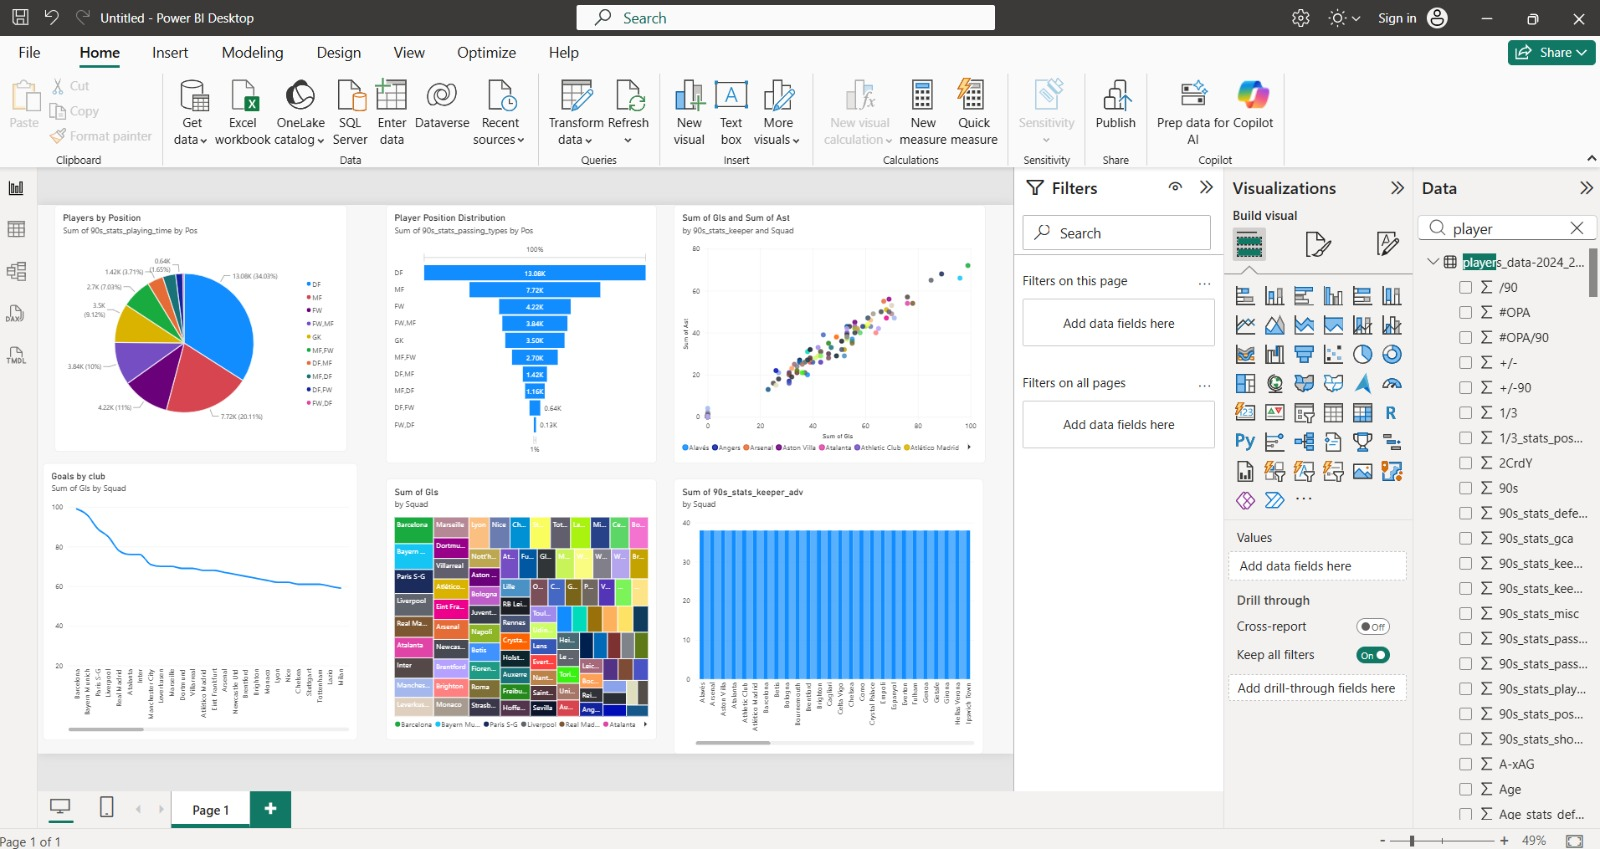

What the dashboard file says about the page in this screenshot:
{"tool":"powerbi","page":{"name":"Page 1","canvas":[1920,1080],"ordinal":0},"visuals":[{"type":"pieChart","title":"Players by Position","fields":{"Category":["players_data-2024_2025.Pos"],"Y":["Sum(players_data-2024_2025.90s_stats_playing_time)"]},"box":[32.9,0,576.3,485.8],"z":0},{"type":"lineChart","title":"Goals by club","fields":{"Category":["players_data-2024_2025.Squad"],"Y":["Sum(players_data-2024_2025.Gls)"]},"box":[10.3,508.4,619.6,545.5],"z":1},{"type":"funnel","title":"Player Position Distribution","fields":{"Category":["players_data-2024_2025.Pos"],"Y":["Sum(players_data-2024_2025.90s_stats_passing_types)"]},"box":[685.4,0,533.1,508.4],"z":2},{"type":"treemap","fields":{"Group":["players_data-2024_2025.Squad"],"Values":["Sum(players_data-2024_2025.Gls)"]},"box":[685.4,539.3,533.1,514.6],"z":3},{"type":"scatterChart","fields":{"Category":["players_data-2024_2025.90s_stats_keeper"],"Series":["players_data-2024_2025.Squad"],"X":["Sum(players_data-2024_2025.Gls)"],"Y":["Sum(players_data-2024_2025.Ast)"]},"box":[1251.5,0,613.4,508.4],"z":4},{"type":"ribbonChart","fields":{"Category":["players_data-2024_2025.Squad"],"Y":["Sum(players_data-2024_2025.90s_stats_keeper_adv)"]},"box":[1251.5,539.3,609.3,541.3],"z":5}]}

Visuals, with their boxes on the page's 1920x1080 design canvas (x1, y1, x2, y2). These are canvas units, not pixel positions in the 1600x849 screenshot, which may show the page scaled, cropped or inside an application window:
"Players by Position" pieChart: {"x1": 33, "y1": 0, "x2": 609, "y2": 486}
"Goals by club" lineChart: {"x1": 10, "y1": 508, "x2": 630, "y2": 1054}
"Player Position Distribution" funnel: {"x1": 685, "y1": 0, "x2": 1218, "y2": 508}
treemap - players_data-2024_2025.Squad x Sum(players_data-2024_2025.Gls): {"x1": 685, "y1": 539, "x2": 1218, "y2": 1054}
scatterChart - players_data-2024_2025.90s_stats_keeper x players_data-2024_2025.Squad: {"x1": 1252, "y1": 0, "x2": 1865, "y2": 508}
ribbonChart - players_data-2024_2025.Squad x Sum(players_data-2024_2025.90s_stats_keeper_adv): {"x1": 1252, "y1": 539, "x2": 1861, "y2": 1081}
